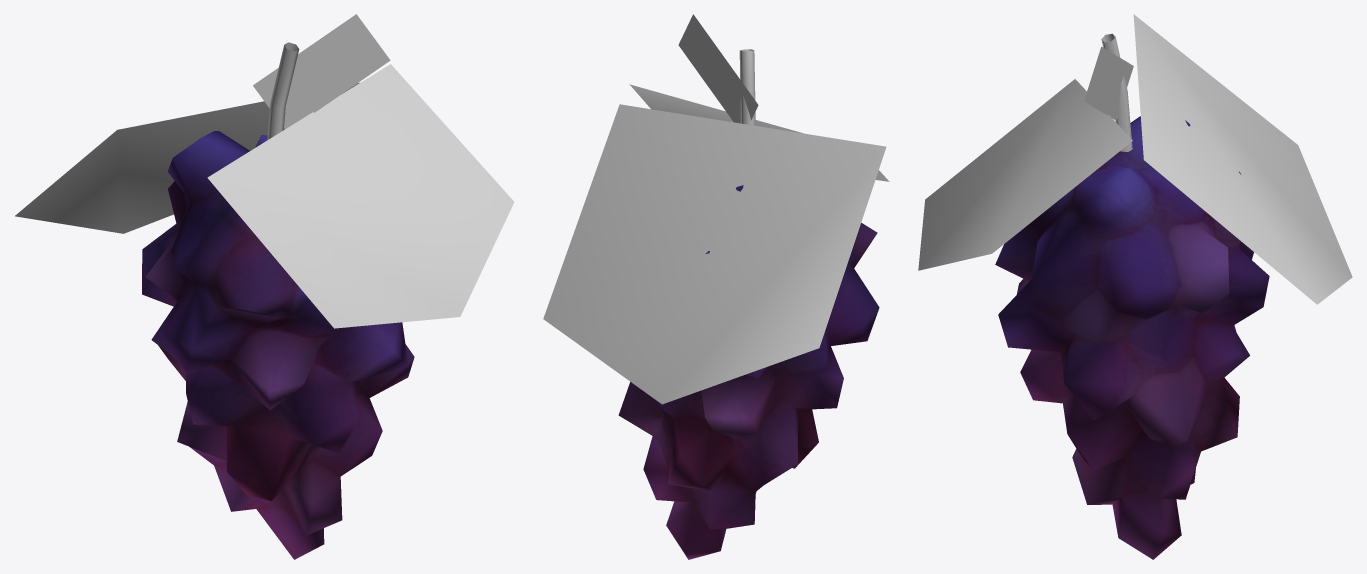
The model's file is SM_Farm_Grapes_02.fbx.
The picture shows the model from 3 angles, left to right: view 1: azimuth 30°, elevation 25°; view 2: azimuth 150°, elevation 25°; view 3: azimuth 270°, elevation 25°; orthographic projection. The views are drawn at different scales.
Parts seen in each view (by area): view 1: SM_Farm_Grapes_02_LOD0; view 2: SM_Farm_Grapes_02_LOD0; view 3: SM_Farm_Grapes_02_LOD0.
Part boxes in pixels (x1,y1,x2,y2): SM_Farm_Grapes_02_LOD0: (15, 14, 514, 559); SM_Farm_Grapes_02_LOD0: (543, 14, 889, 559); SM_Farm_Grapes_02_LOD0: (918, 14, 1352, 559).
Size of the model in its own units: 22.64 by 35.42 by 26.63.
